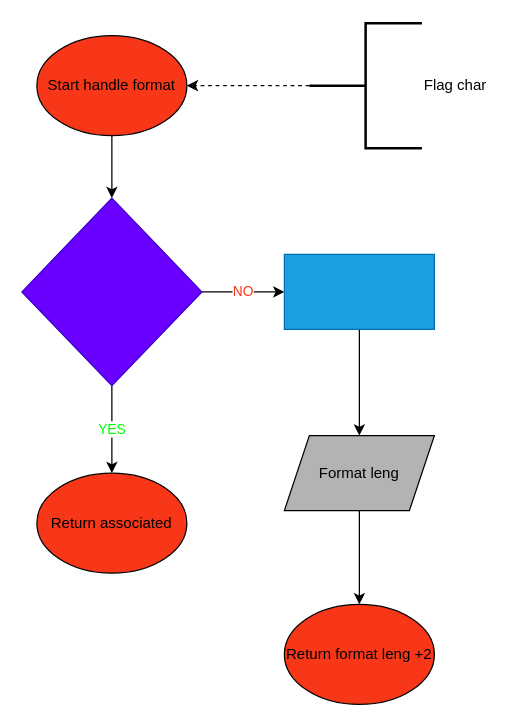
The diagram is 509 pixels wide and 726 high, and some of its shapes have lost their labels. The shapes that lost their labels are listed below. From the top down, each one's centre as x and y in pixels, then its label:
point (111, 291): Is char associated to functions ?
point (358, 291): Print "%" Print char
